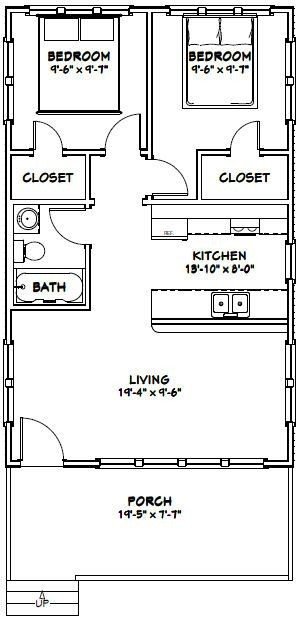door: (15, 408, 75, 463), (105, 111, 150, 163), (47, 208, 98, 251), (216, 117, 268, 157), (21, 119, 67, 163), (153, 156, 192, 197)
